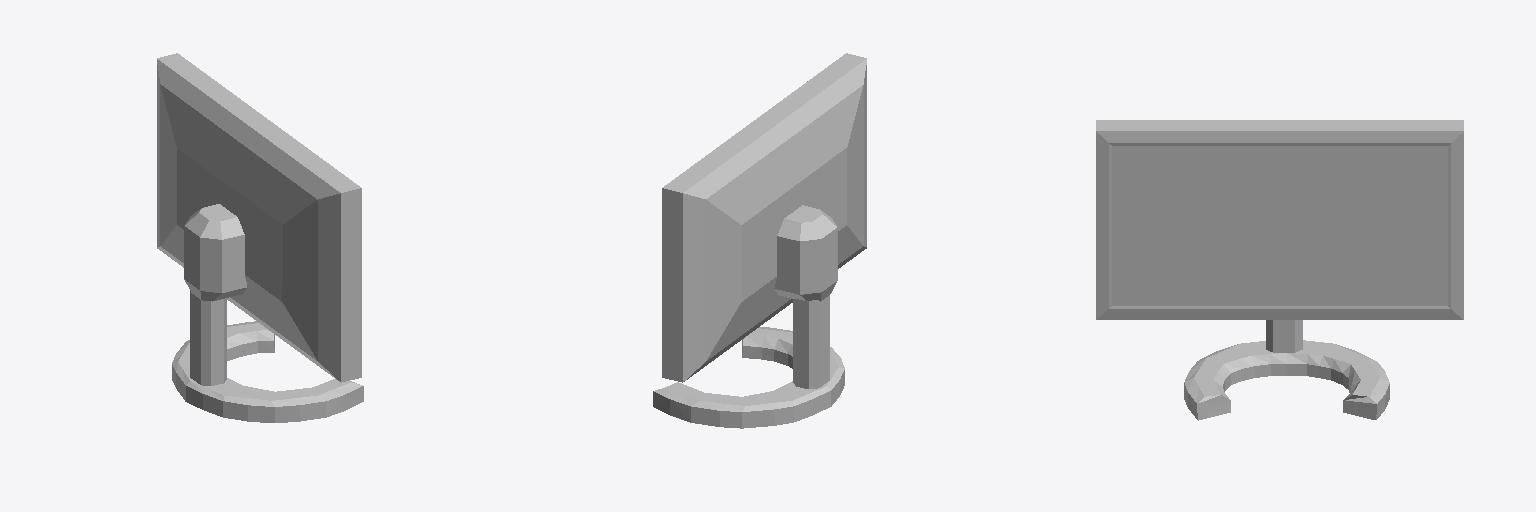
File: Moniter_high.obj
The picture shows the model from 3 angles: view 1: azimuth 30°, elevation 25°; view 2: azimuth 150°, elevation 25°; view 3: azimuth 270°, elevation 25°; orthographic projection.
Parts seen in each view (by area): view 1: Moniter1; view 2: Moniter1; view 3: Moniter1.
Boxes of the visible parts, x1,y1,x2,y2 form: Moniter1: [157, 53, 363, 422]; Moniter1: [653, 53, 866, 428]; Moniter1: [1096, 120, 1463, 420].
Bounding box in the file's own units: 1.5 × 2.83 × 3.58.